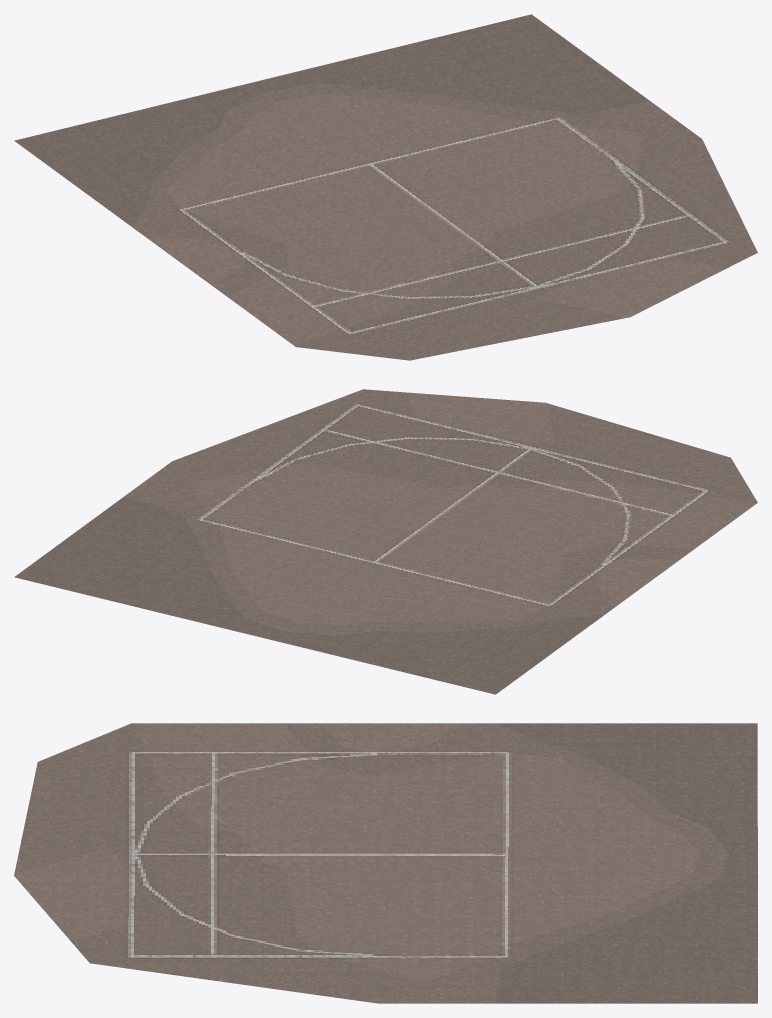
Rendered from kd_stage_1366d7_2_3.glb.
3 views of the same model, one above another, from view 1: azimuth 30°, elevation 25°; view 2: azimuth 150°, elevation 25°; view 3: azimuth 270°, elevation 25° (orthographic). The views are drawn at different scales.
Parts seen in each view (by area): view 1: kd_stage_1366d7_2_3; view 2: kd_stage_1366d7_2_3; view 3: kd_stage_1366d7_2_3.
Part boxes in pixels (<box>): kd_stage_1366d7_2_3: <box>14,14,757,360</box>; kd_stage_1366d7_2_3: <box>14,389,757,694</box>; kd_stage_1366d7_2_3: <box>14,723,757,1003</box>.
Bounding box in the file's own units: 60.75 × 1.05e-05 × 68.06.
Materials: 1 (1 with a texture image).
